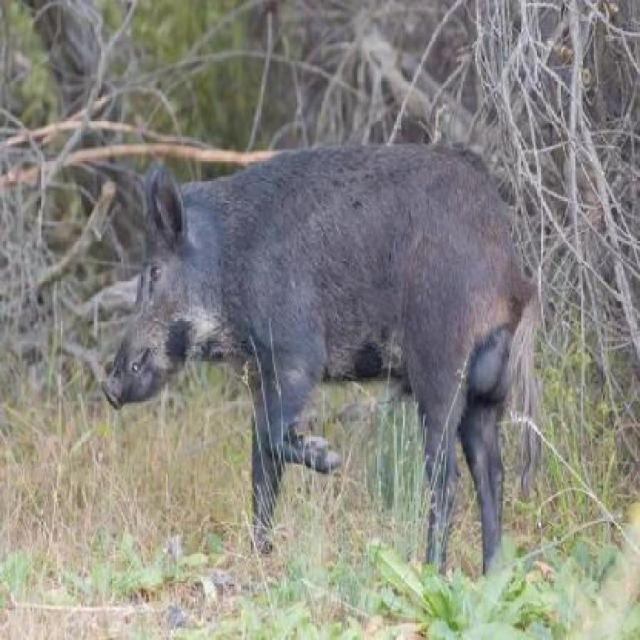wildboar: (87, 131, 545, 603)
